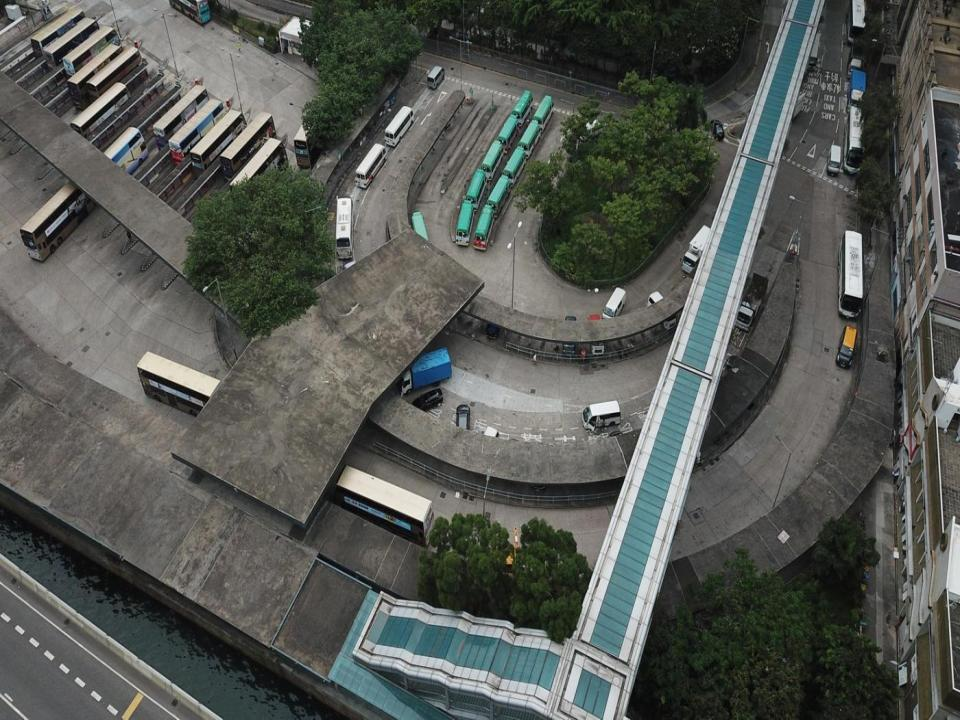bus: (135, 344, 233, 436), (334, 462, 438, 548), (17, 171, 100, 262), (146, 81, 209, 158), (166, 97, 225, 167), (39, 14, 100, 80), (230, 141, 286, 212), (86, 124, 148, 188), (289, 98, 339, 174), (61, 23, 117, 90), (67, 81, 128, 141), (26, 8, 86, 64), (78, 41, 139, 87), (838, 227, 868, 320), (196, 111, 244, 166), (225, 117, 278, 165), (92, 48, 138, 92), (842, 107, 872, 174), (354, 141, 388, 191), (332, 195, 357, 262), (168, 0, 216, 32), (383, 102, 417, 144), (582, 399, 623, 433), (482, 176, 512, 220), (472, 201, 496, 250), (494, 112, 522, 154), (409, 209, 431, 262), (462, 168, 486, 214), (502, 148, 529, 187), (479, 140, 504, 182), (454, 200, 473, 250), (533, 94, 558, 131), (518, 120, 543, 157), (510, 91, 536, 125)
car: (411, 394, 445, 419), (456, 394, 470, 436), (707, 116, 726, 142)
truck: (737, 270, 771, 332), (403, 355, 451, 389), (684, 217, 710, 275), (845, 68, 867, 112), (847, 41, 867, 80)
van: (646, 290, 679, 332), (835, 324, 859, 370), (561, 311, 580, 366), (604, 284, 627, 322), (424, 62, 446, 91), (588, 312, 602, 357), (826, 144, 844, 178)
